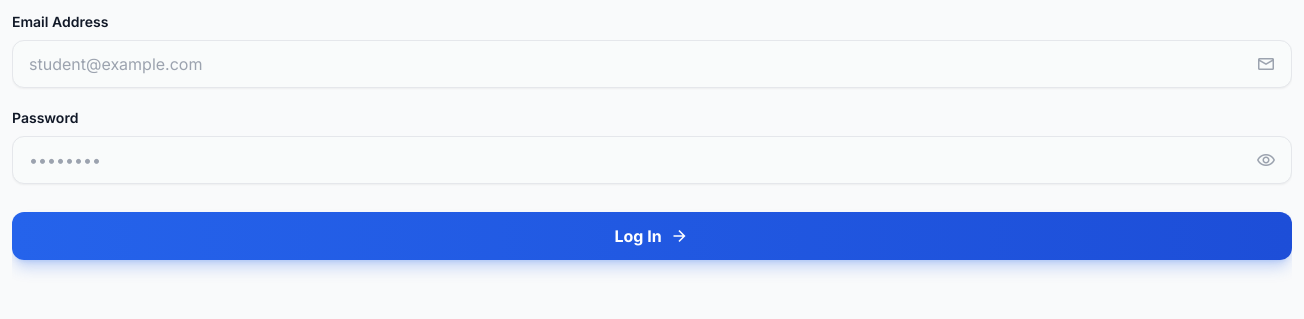
it: LoginForm › requires password to be at least 8 characters
Type "short" into the password field labelled "Password" at {"x": 652, "y": 160}, box top-left (12, 136), bottom-right (1292, 184)
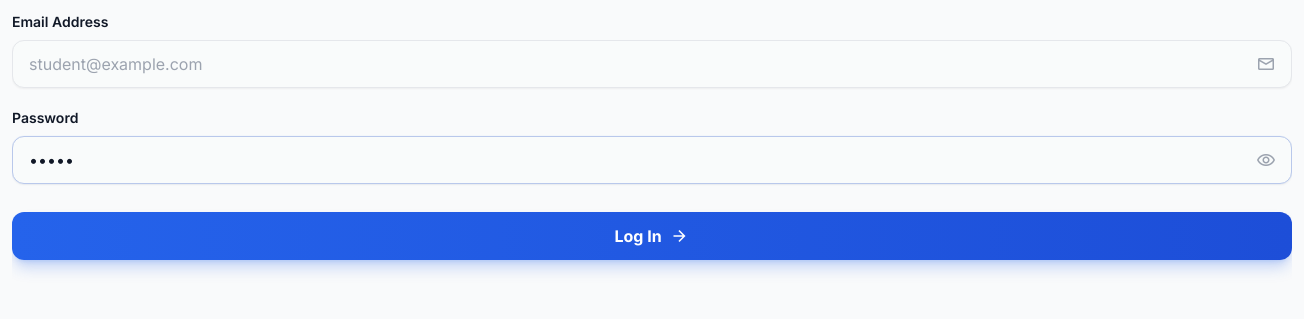
Press Tab
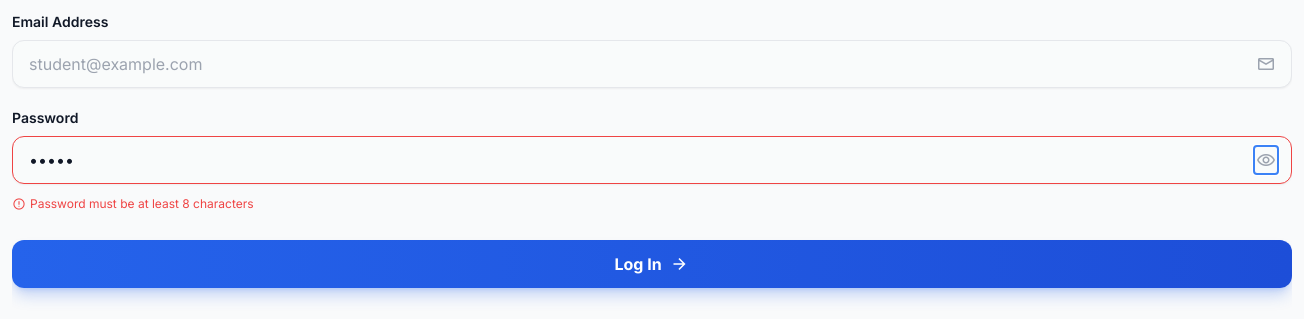
Result: the text "Password must be at least 8 characters" is shown at top-left (12, 196), bottom-right (254, 212)
